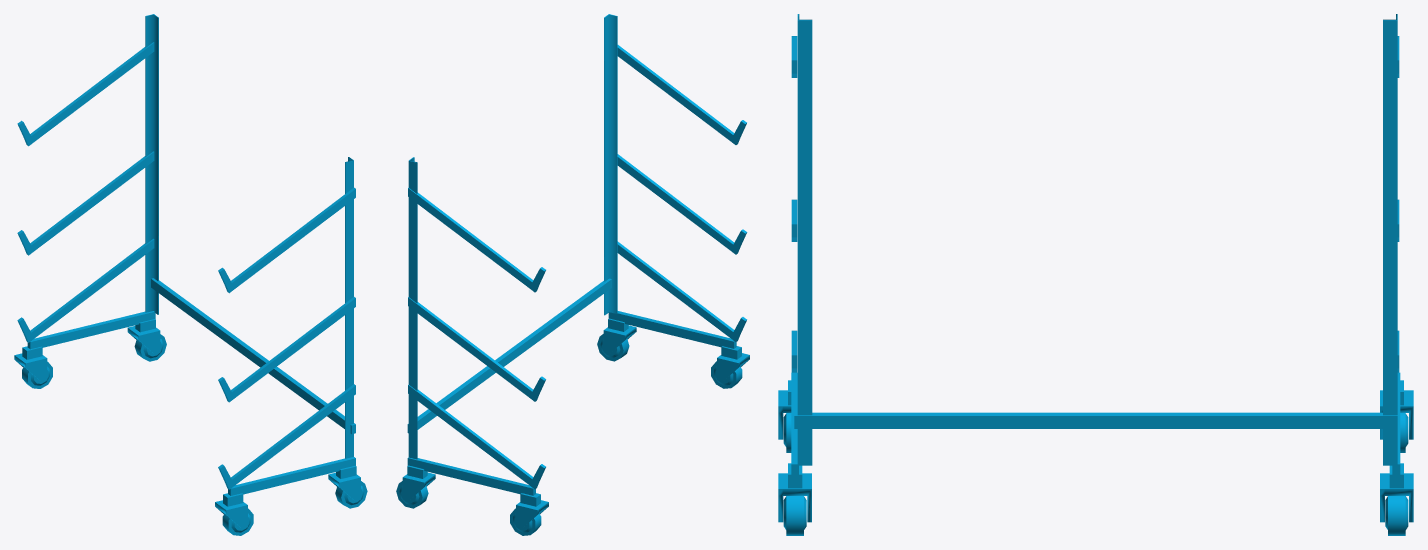
The model's file is Shop_Shelf_05_Lod1.fbx.
3 renders of one model, left to right at view 1: azimuth 30°, elevation 25°; view 2: azimuth 150°, elevation 25°; view 3: azimuth 270°, elevation 25°, orthographic. The views are drawn at different scales.
Parts seen in each view (by area): view 1: Shop_Shelf_05_Lod1; view 2: Shop_Shelf_05_Lod1; view 3: Shop_Shelf_05_Lod1.
Boxes of the visible parts, <box> form: Shop_Shelf_05_Lod1: <box>14,14,367,535</box>; Shop_Shelf_05_Lod1: <box>396,14,749,535</box>; Shop_Shelf_05_Lod1: <box>778,14,1413,535</box>.
Bounding box in the file's own units: 69.78 × 157 × 176.
